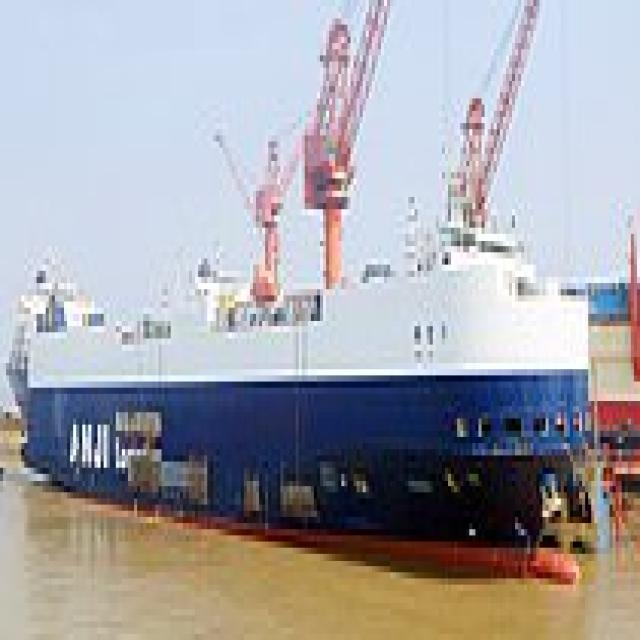Carrier: (15, 252, 588, 585)
